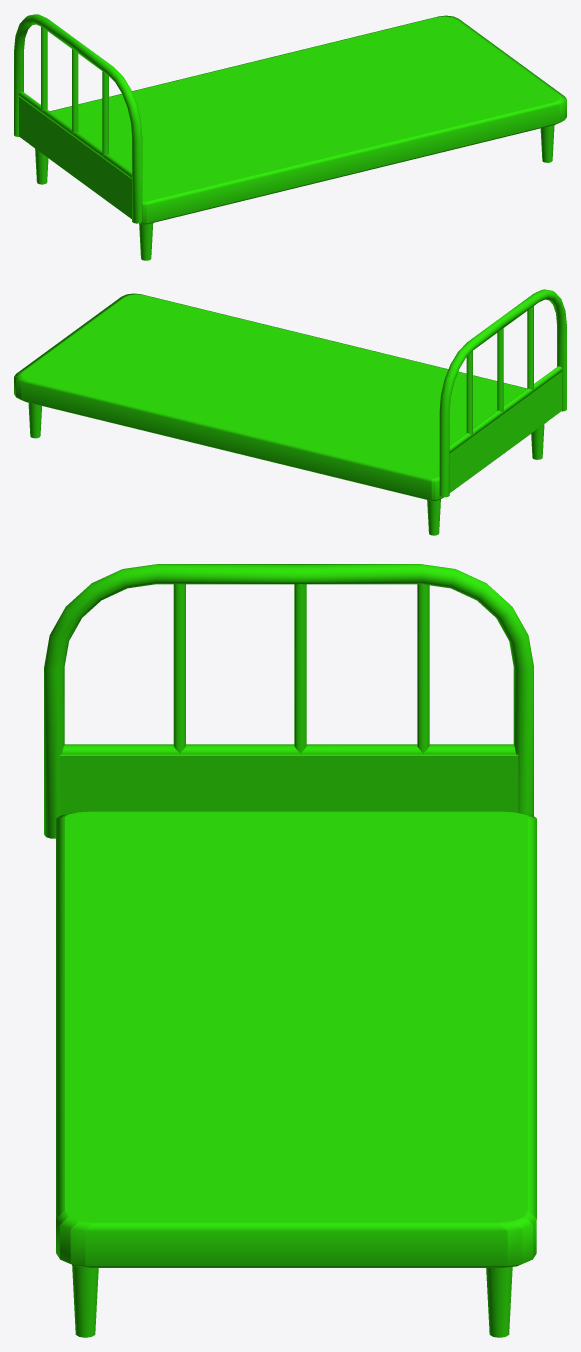
Rendered from Bedspring_02_Lod0.fbx.
The picture shows the model from 3 angles, top to bottom: view 1: azimuth 30°, elevation 25°; view 2: azimuth 150°, elevation 25°; view 3: azimuth 270°, elevation 25°; orthographic projection. The views are drawn at different scales.
Visible parts, largest first — view 1: Bedspring_02_Lod0; view 2: Bedspring_02_Lod0; view 3: Bedspring_02_Lod0.
Part boxes in pixels (x1,y1,x2,y2): Bedspring_02_Lod0: (14,14,566,260); Bedspring_02_Lod0: (14,289,566,535); Bedspring_02_Lod0: (44,564,536,1337).
Size of the model in its own units: 207 by 82.29 by 101.
